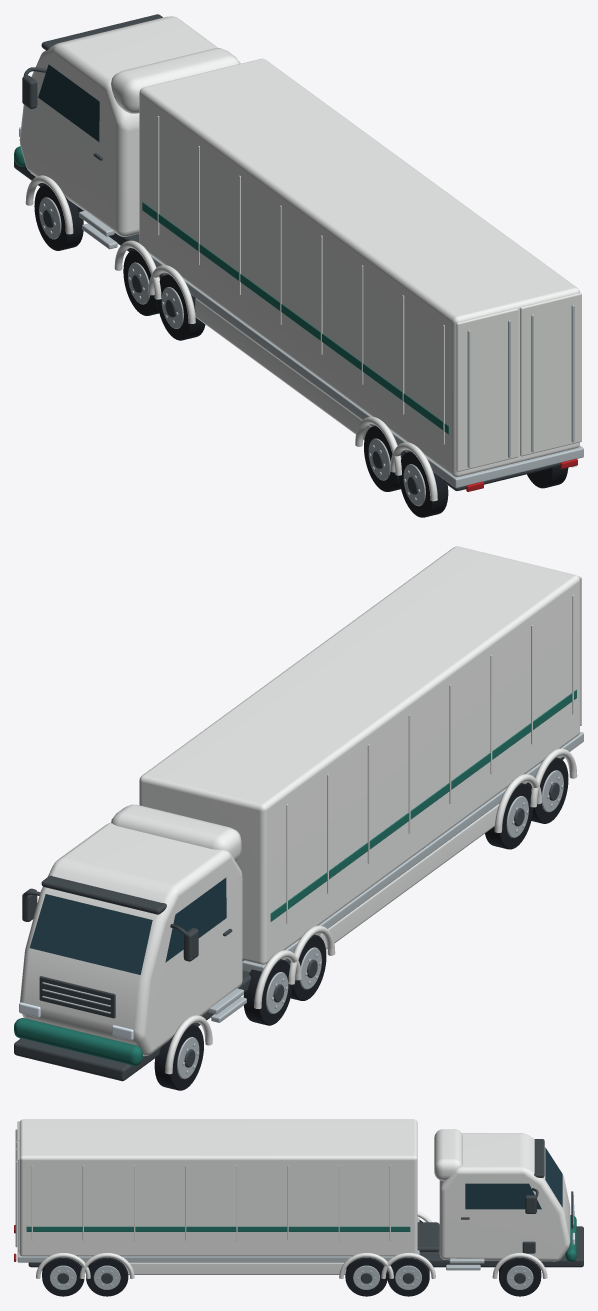
3 views of the same model, one above another, from view 1: azimuth 30°, elevation 25°; view 2: azimuth 150°, elevation 25°; view 3: azimuth 270°, elevation 25° (orthographic). The views are drawn at different scales.
Parts seen in each view (by area): view 1: truck|trailer, truck|cab, truck|rear-door, truck|rear-door.001, truck|trailer-bottom, truck|side-skirt, truck|roof-deflector, truck|stripe, truck|side-glass, wheel_-1_0|tire, wheel_-1_4|tire, wheel_-1_2|tire (+9 smaller); view 2: truck|trailer, truck|cab, truck|windscreen, truck|side-skirt, truck|roof-deflector, truck|stripe, truck|bumper, truck|frame, truck|trailer-bottom, truck|side-glass, truck|front-grille, truck|sunvisor (+10 smaller); view 3: truck|trailer, truck|cab, truck|side-skirt.001, truck|stripe.001, truck|trailer-bottom, truck|side-glass.001, truck|roof-deflector, truck|frame, wheel_1_0|tire, wheel_1_4|tire, wheel_1_3|tire, wheel_1_1|tire (+17 smaller).
Part boxes in pixels (x1,y1,x2,y2): truck|trailer: [139, 58, 579, 476]; truck|cab: [19, 16, 217, 236]; truck|rear-door: [456, 308, 518, 471]; truck|rear-door.001: [520, 292, 581, 456]; truck|trailer-bottom: [150, 254, 583, 488]; truck|side-skirt: [195, 298, 371, 440]; truck|roof-deflector: [111, 48, 240, 113]; truck|stripe: [142, 202, 448, 434]; truck|side-glass: [38, 64, 99, 141]; wheel_-1_0|tire: [34, 184, 83, 250]; wheel_-1_4|tire: [399, 451, 448, 517]; wheel_-1_2|tire: [157, 274, 205, 340]; truck|trailer: [139, 546, 579, 964]; truck|cab: [20, 822, 242, 1055]; truck|windscreen: [29, 894, 152, 974]; truck|side-skirt: [319, 803, 499, 949]; truck|roof-deflector: [111, 804, 241, 861]; truck|stripe: [270, 689, 576, 921]; truck|bumper: [14, 1018, 142, 1065]; truck|frame: [14, 756, 564, 1081]; truck|trailer-bottom: [242, 732, 583, 972]; truck|side-glass: [165, 877, 226, 962]; truck|front-grille: [39, 976, 115, 1018]; truck|sunvisor: [41, 875, 166, 914]; truck|trailer: [19, 1119, 417, 1256]; truck|cab: [439, 1133, 570, 1261]; truck|side-skirt.001: [123, 1262, 346, 1274]; truck|stripe.001: [26, 1226, 410, 1231]; truck|trailer-bottom: [17, 1217, 419, 1262]; truck|side-glass.001: [465, 1183, 541, 1209]; truck|roof-deflector: [434, 1129, 462, 1180]; truck|frame: [28, 1226, 583, 1267]; wheel_1_0|tire: [499, 1257, 541, 1296]; wheel_1_4|tire: [42, 1257, 84, 1296]; wheel_1_3|tire: [86, 1257, 128, 1296]; wheel_1_1|tire: [387, 1257, 429, 1296].
Size of the model in its own units: 3.36 by 4.18 by 15.6.
